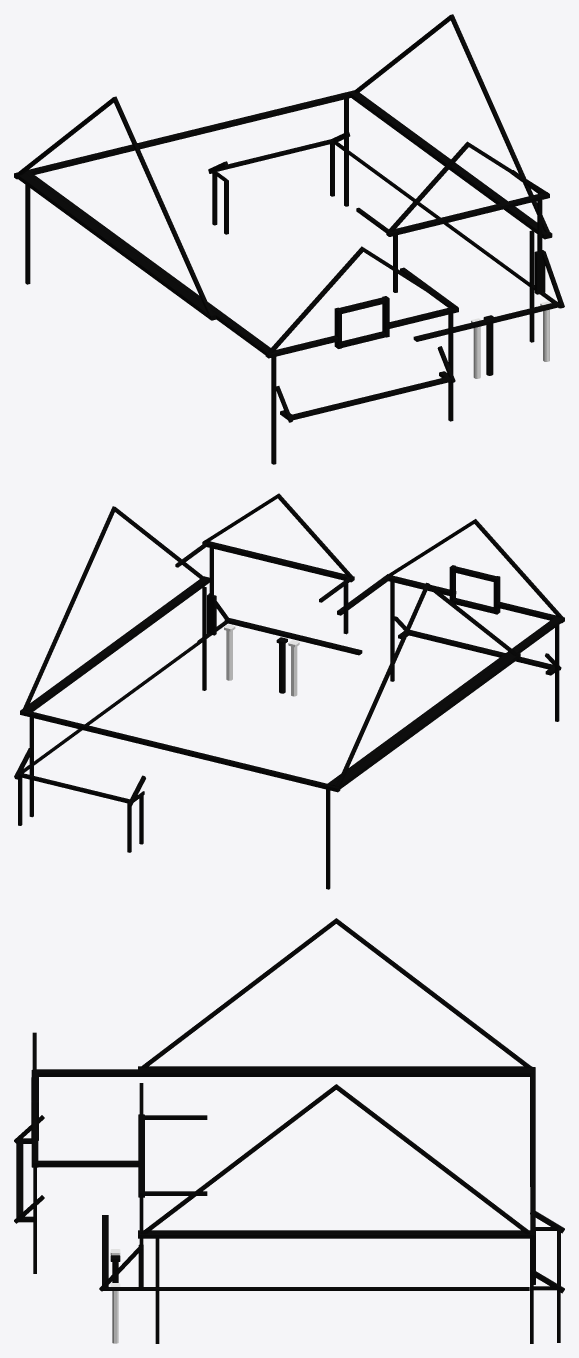
The model's file is Estructura casa.obj.
The picture shows the model from 3 angles, top to bottom: view 1: azimuth 30°, elevation 25°; view 2: azimuth 150°, elevation 25°; view 3: azimuth 270°, elevation 25°; orthographic projection. The views are drawn at different scales.
Parts seen in each view (by area): view 1: polySurface173; view 2: polySurface173; view 3: polySurface173.
Part boxes in pixels (x1,y1,x2,y2): polySurface173: (14, 14, 564, 464); polySurface173: (14, 493, 564, 889); polySurface173: (14, 918, 564, 1343).
Bounding box in the file's own units: 6.09 × 4.46 × 8.42.
Materials: 2 (2 with a texture image).
